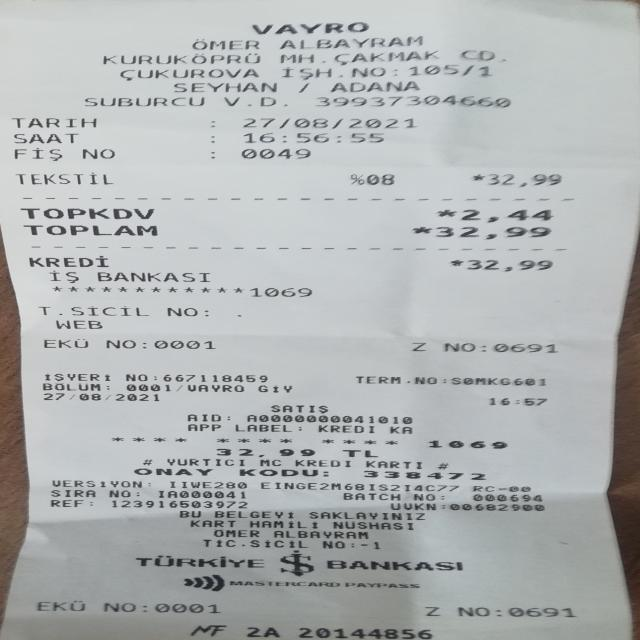text: (356, 374, 548, 388), (261, 480, 456, 492), (317, 95, 510, 107), (102, 52, 260, 66), (409, 226, 550, 240), (248, 412, 410, 424), (242, 117, 416, 128), (298, 626, 431, 640), (433, 208, 553, 223), (277, 37, 423, 49), (136, 554, 260, 568), (118, 68, 258, 80), (326, 560, 465, 572), (20, 207, 154, 219), (333, 50, 438, 65), (452, 258, 554, 273), (23, 224, 156, 235), (83, 96, 204, 108), (243, 132, 384, 142), (96, 270, 208, 282), (112, 499, 246, 509), (280, 66, 384, 78), (15, 172, 111, 185), (42, 304, 146, 316), (363, 470, 484, 480), (250, 22, 370, 32), (468, 173, 560, 186), (172, 81, 277, 92), (310, 510, 424, 520), (164, 372, 266, 383), (196, 539, 308, 549), (216, 447, 314, 458), (44, 392, 158, 401), (406, 64, 491, 76), (52, 478, 151, 488), (329, 81, 418, 92), (479, 342, 557, 354), (451, 502, 544, 512), (274, 530, 367, 540), (430, 438, 505, 450), (27, 256, 108, 267), (158, 489, 245, 499), (11, 117, 96, 127), (134, 466, 210, 477), (153, 602, 220, 614), (332, 520, 412, 530), (189, 39, 260, 50), (222, 96, 287, 108), (168, 480, 246, 490), (228, 580, 337, 587), (239, 468, 315, 478), (167, 458, 242, 468), (515, 606, 577, 618), (12, 146, 60, 161), (238, 148, 310, 158), (250, 286, 310, 298), (215, 510, 292, 519), (153, 339, 214, 350), (12, 133, 78, 143), (250, 520, 316, 530), (38, 598, 83, 612), (473, 493, 542, 502), (271, 403, 326, 414), (276, 51, 319, 65), (234, 423, 292, 433), (40, 373, 112, 381), (40, 382, 104, 391), (347, 173, 393, 185), (188, 383, 243, 393), (318, 424, 373, 434), (365, 460, 420, 470), (54, 318, 102, 329), (343, 492, 400, 501), (458, 49, 492, 64), (189, 624, 228, 637), (490, 397, 546, 406), (42, 270, 80, 283), (296, 459, 350, 468), (472, 484, 531, 492), (81, 146, 112, 161), (43, 338, 87, 348), (126, 382, 170, 392), (50, 488, 94, 498), (344, 582, 417, 588), (51, 498, 93, 508), (187, 412, 232, 421), (214, 529, 258, 538), (191, 519, 234, 528), (164, 306, 199, 317), (392, 502, 434, 511), (444, 341, 475, 353), (247, 625, 277, 637), (343, 448, 377, 458), (105, 600, 133, 612), (258, 384, 290, 394), (106, 338, 135, 349), (125, 372, 156, 382), (458, 606, 485, 617), (188, 423, 219, 432), (110, 489, 140, 498), (260, 458, 279, 468), (322, 540, 343, 549), (414, 492, 434, 501), (180, 509, 199, 518), (361, 540, 378, 550), (389, 426, 410, 434), (412, 341, 425, 353), (296, 81, 310, 92), (425, 606, 439, 617), (496, 606, 505, 617), (144, 600, 151, 614), (438, 460, 447, 470), (143, 457, 151, 466), (323, 469, 327, 478), (143, 338, 146, 349), (178, 383, 180, 393), (351, 541, 352, 549)
